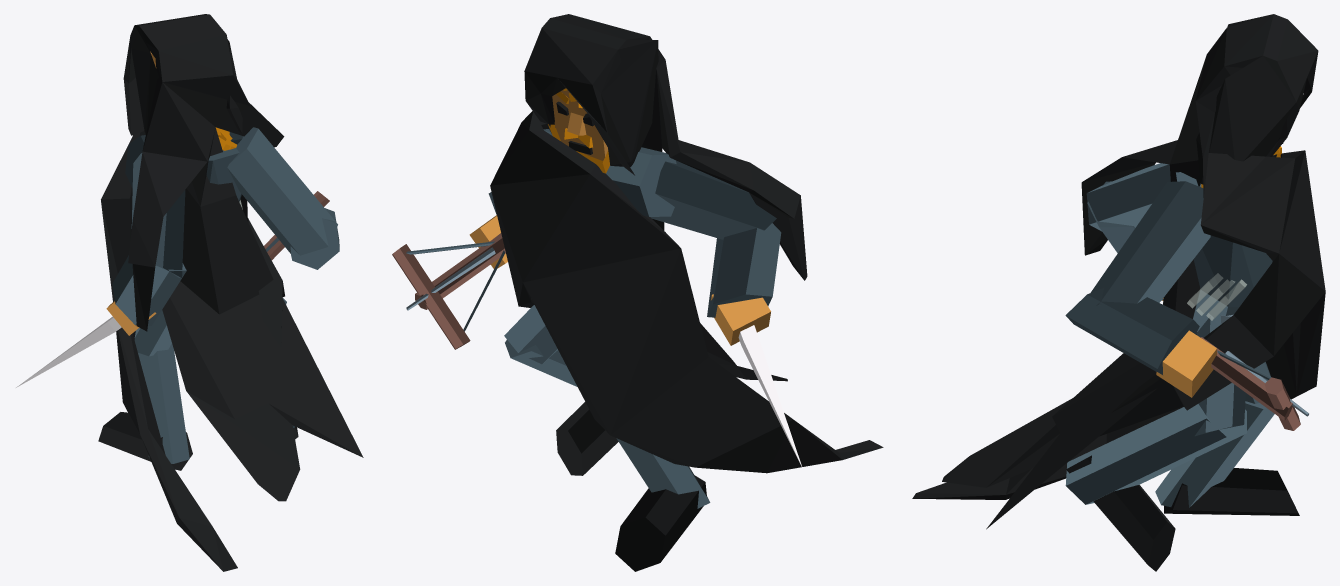
Rendered from 6o_T1kAF_C5.glb.
The picture shows the model from 3 angles, left to right: view 1: azimuth 30°, elevation 25°; view 2: azimuth 150°, elevation 25°; view 3: azimuth 270°, elevation 25°; orthographic projection. The views are drawn at different scales.
Parts seen in each view (by area): view 1: Node; view 2: Node; view 3: Node.
Part boxes in pixels (bbox=[...]): Node: bbox=[16, 14, 363, 571]; Node: bbox=[392, 14, 883, 571]; Node: bbox=[912, 14, 1325, 571].
Size of the model in its own units: 1.16 by 1.45 by 1.05.
Materials: 2 (2 with a texture image).
